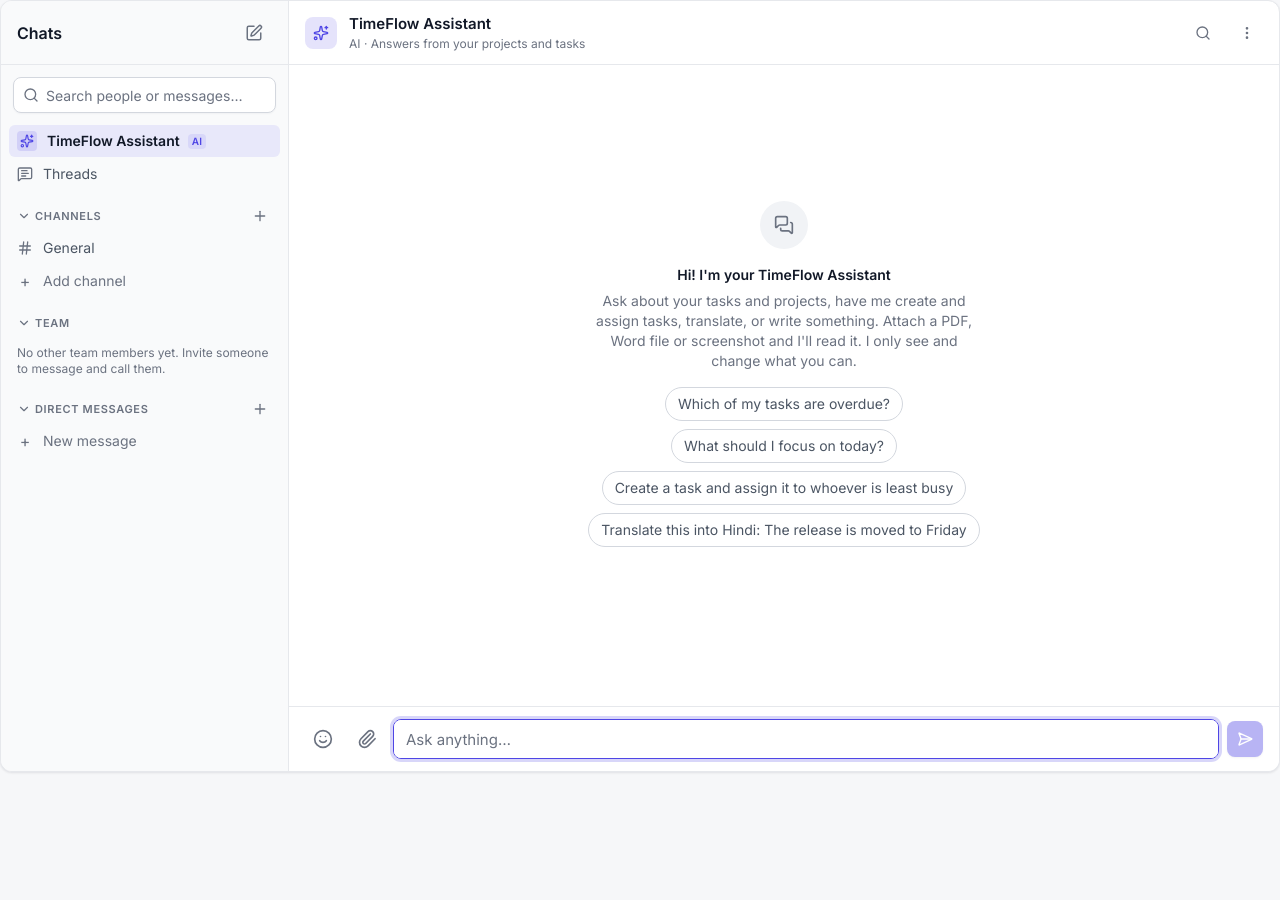
Test: TimeFlow Assistant › offers starter questions and streams the answer in
Click the button "Which of my tasks are overdue?": [784, 404] box 665,386 -> 903,420
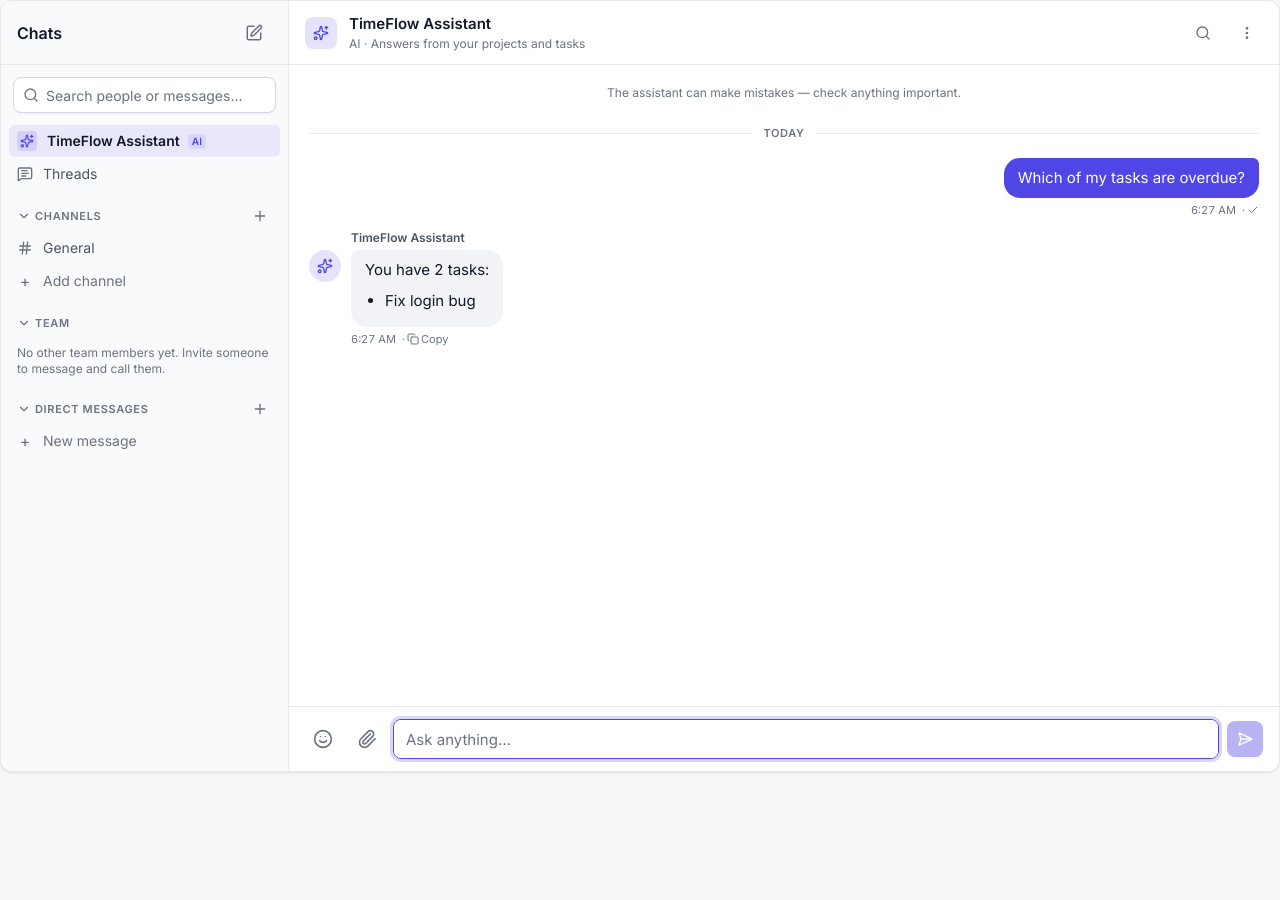
Expected: the text "You have 2 tasks:" is shown, 365,258 -> 490,283
Expected: the list item "Fix login bug" is shown, 385,289 -> 490,313
